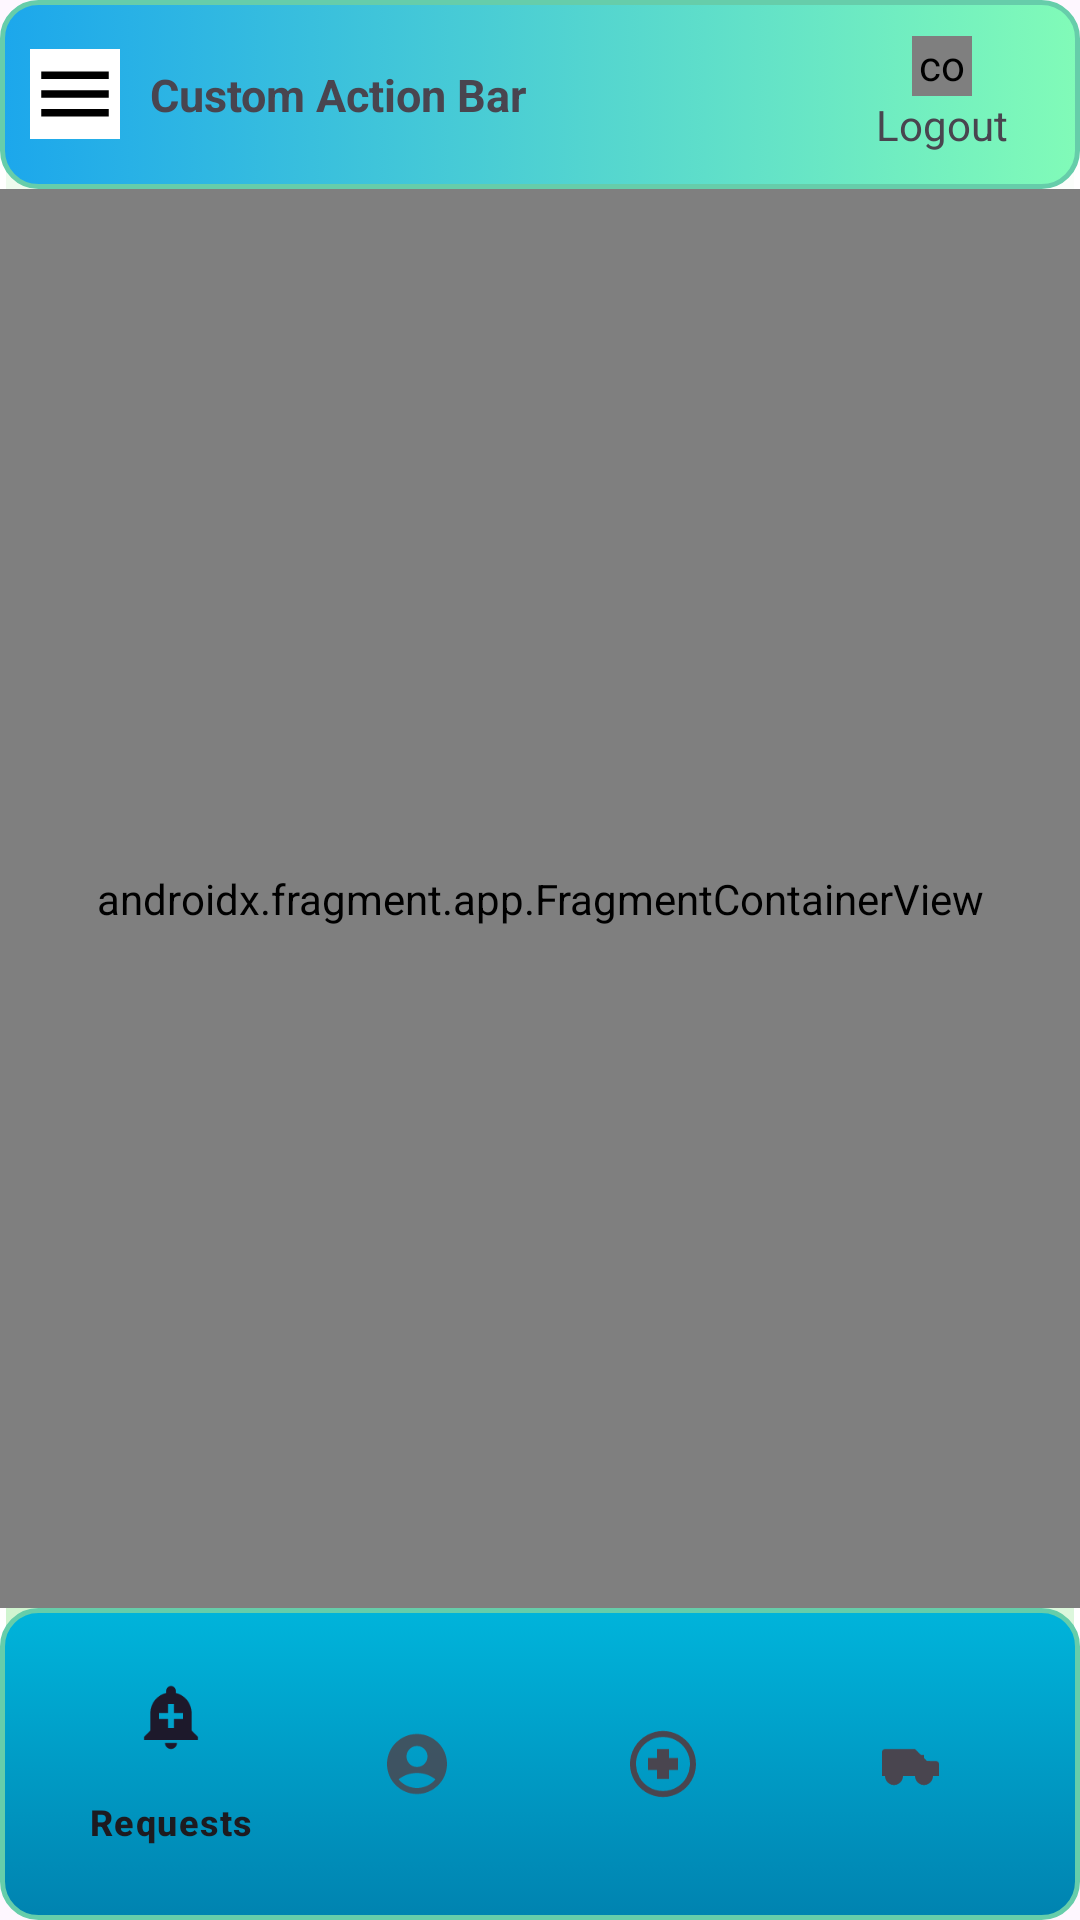

Screen size 1080w x 1920h. Icon name, then its center in pixels as (x,y):
Select menu: (75,94)
